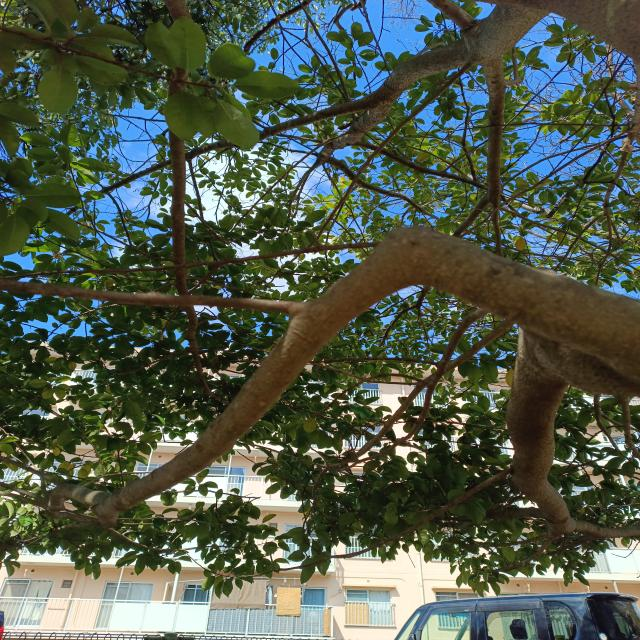Branch: (44, 221, 640, 527), (503, 325, 640, 539), (374, 6, 548, 104)
Twig: (336, 324, 512, 465), (342, 309, 488, 472), (272, 470, 507, 571), (110, 98, 373, 188), (0, 275, 298, 312), (449, 56, 506, 234), (315, 104, 392, 169)
